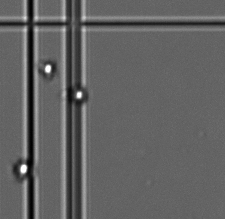Living Cell: (14, 159, 32, 178), (71, 86, 88, 105), (40, 60, 56, 79)
